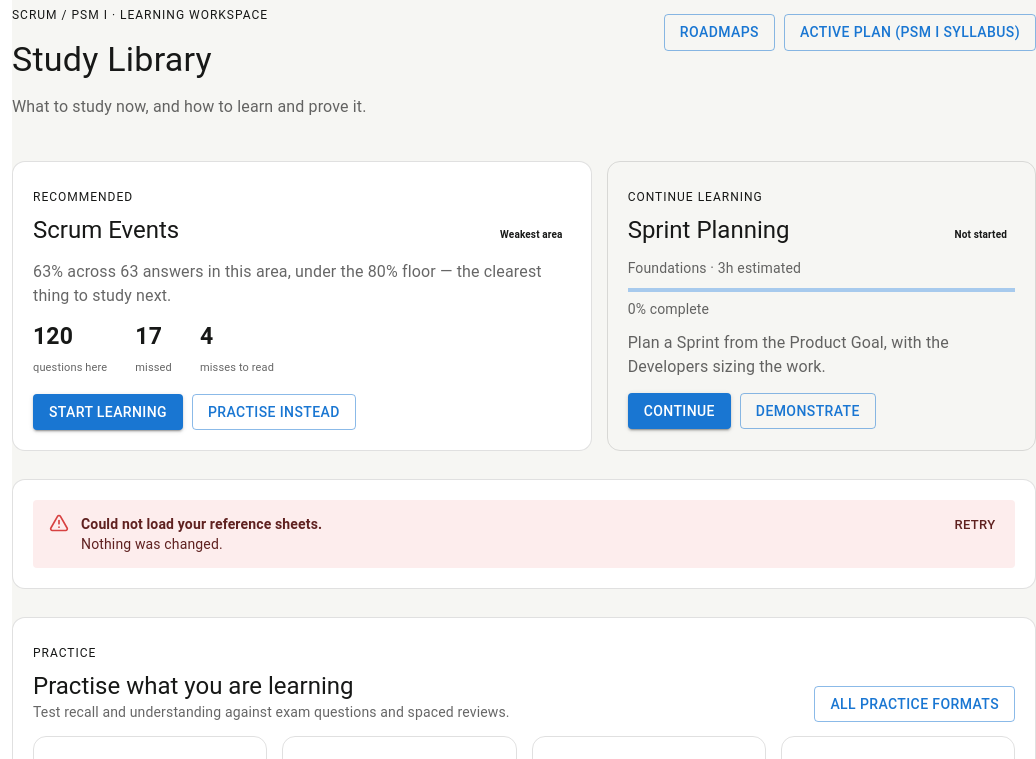
Test case: StudyLibraryPage: Your reference sheets › says the sheets could not be loaded, and retries
The width and height of the screenshot is (1036, 759).
Expected: the text "Could not load your reference sheets." is shown, [81,514,322,534]
Click the button "Retry".
click(975, 526)  # box [943,510,1007,541]
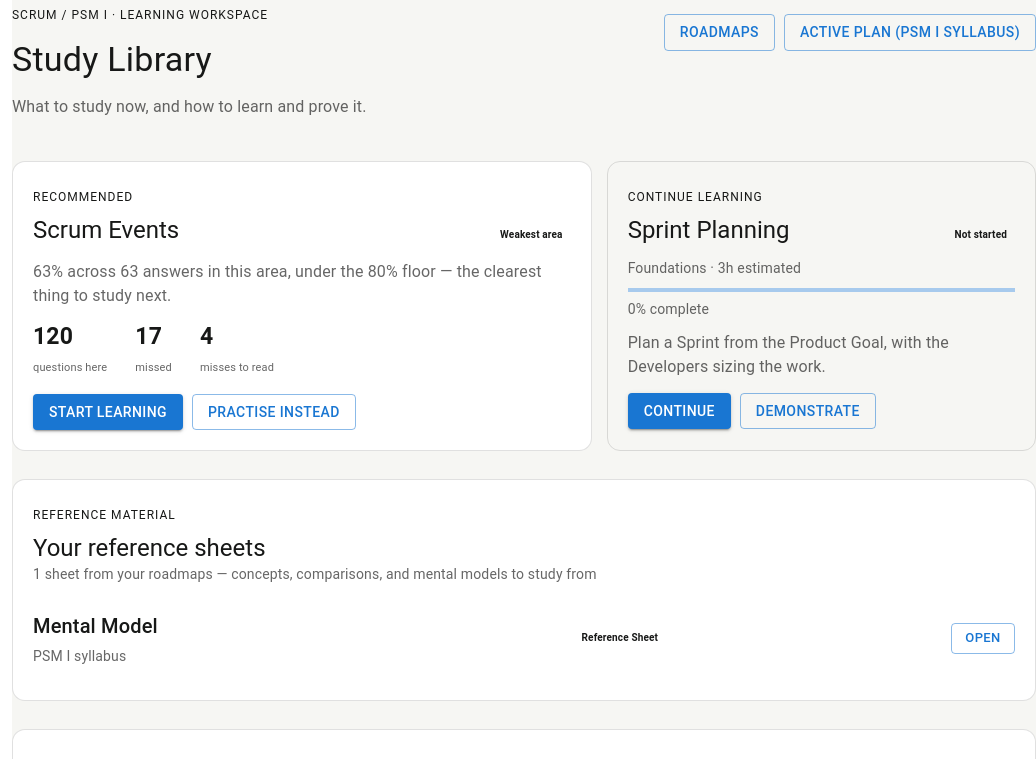
Now the heading "Mental Model" is shown, box [33,614,158,638]
